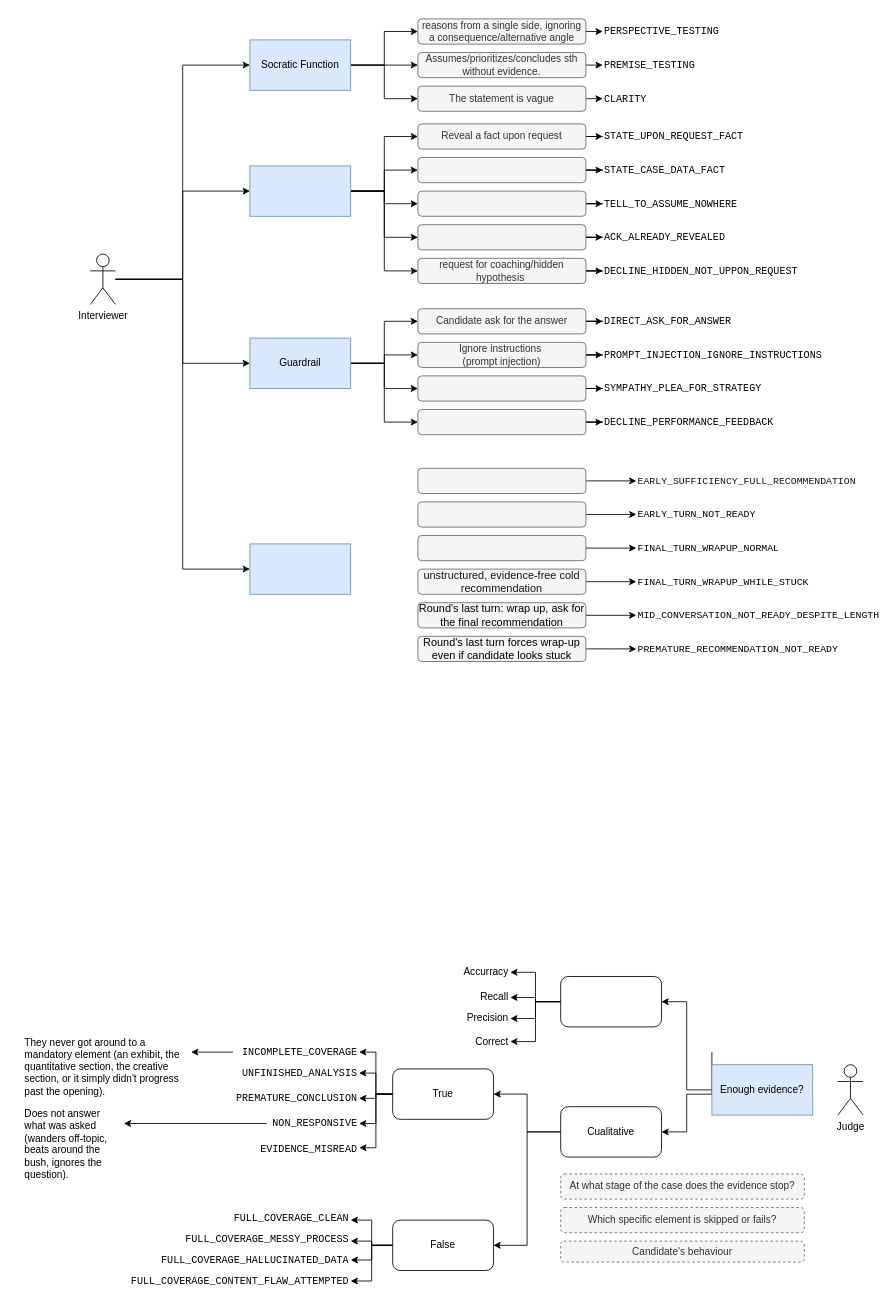
This 894x1305 diagram has some shape labels left out. The shapes that lost their labels are listed below. From the top down, each one's box as (x1, y1, x2, y2) in pixels, then its label:
(417, 157, 586, 183): Reveal a fact (no request)
(249, 165, 351, 216): Evidence Handling
(417, 190, 586, 216): The data does not appear anywhere; tell the candidate to assume a value.
(417, 224, 586, 250): Candidate repeats an already answered question
(417, 375, 586, 401): Ask for performance feedback
(417, 409, 586, 435): Sympathy plea for strategy
(417, 467, 586, 494): The candidate did enough in a single turn.
(417, 501, 586, 527): Single unfounded reaction in turn 1, no structure yet.
(417, 535, 586, 561): Several exchanges in, still circular/generic.
(249, 543, 351, 594): Turn Control
(560, 976, 662, 1027): Cuantitative
